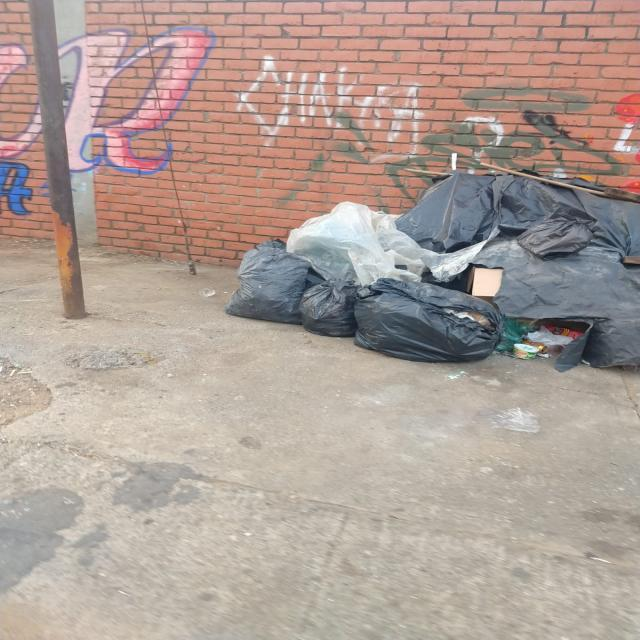high trash: (226, 174, 640, 369)
